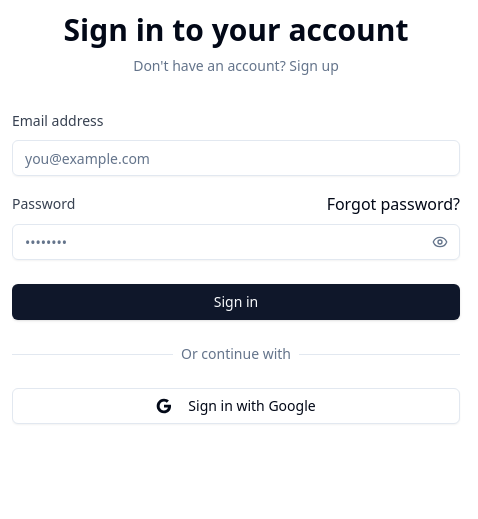
Test case: LoginForm › Form Submission › displays error message on failed login
The width and height of the screenshot is (478, 519).
In the field labelled "Email address": x=236, y=158 [12,140,460,176], type "test@example.com"
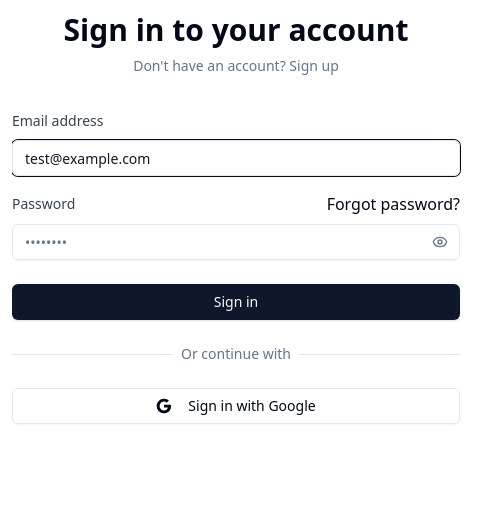
In the password field labelled "Password": x=236, y=242 [12,224,460,260], type "wrongpassword"
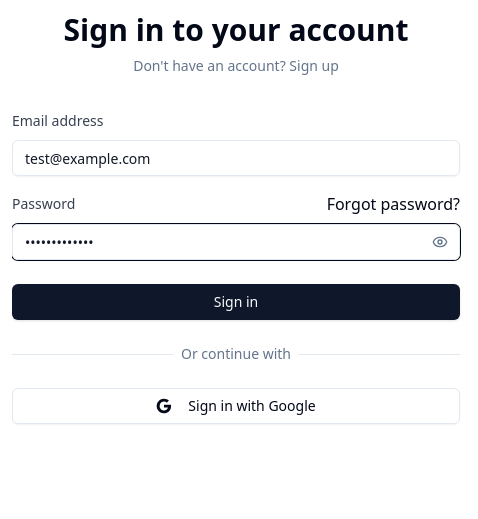
Click the button "Sign in": x=236, y=302 [12,284,460,320]
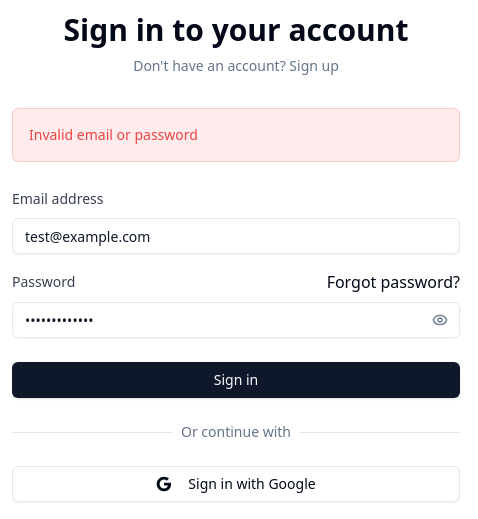
Result: the text "Invalid email or password" is shown at [29,125,198,144]
